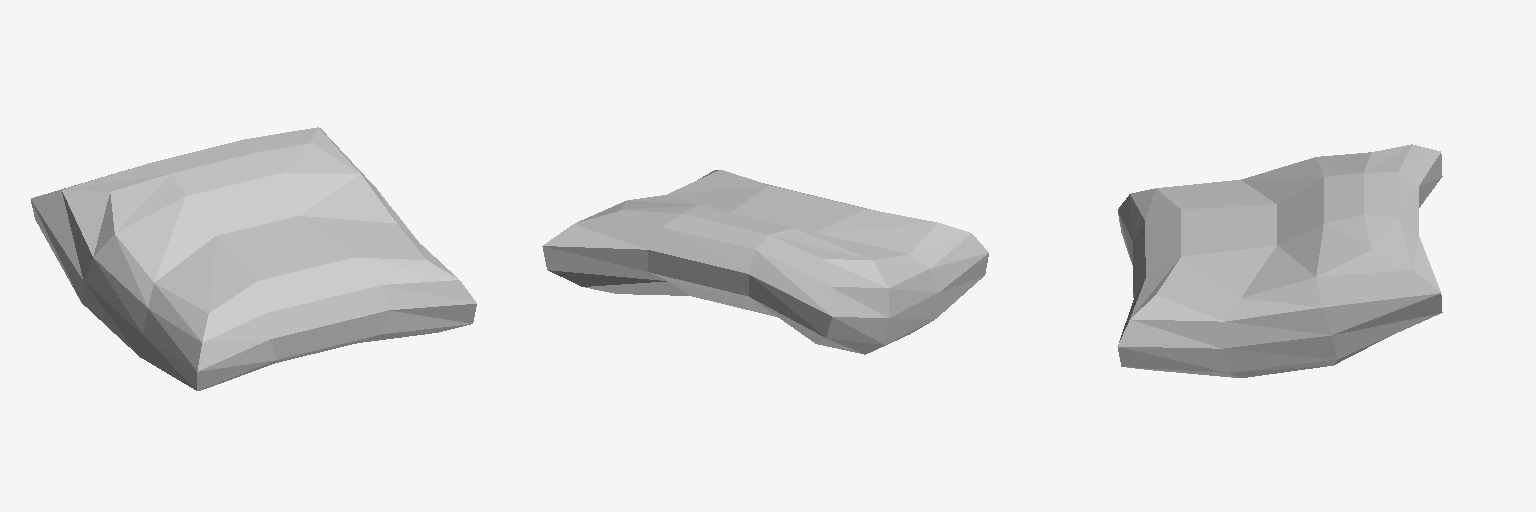
File: pillow03.obj
The picture shows the model from 3 angles: view 1: azimuth 30°, elevation 25°; view 2: azimuth 150°, elevation 25°; view 3: azimuth 270°, elevation 25°; orthographic projection.
Parts seen in each view (by area): view 1: Cube_Cube.001; view 2: Cube_Cube.001; view 3: Cube_Cube.001.
Part boxes in pixels (bbox=[...]): Cube_Cube.001: bbox=[31, 127, 476, 390]; Cube_Cube.001: bbox=[542, 170, 988, 354]; Cube_Cube.001: bbox=[1117, 144, 1442, 377].
Bounding box in the file's own units: 0.3797 × 0.1541 × 0.364.